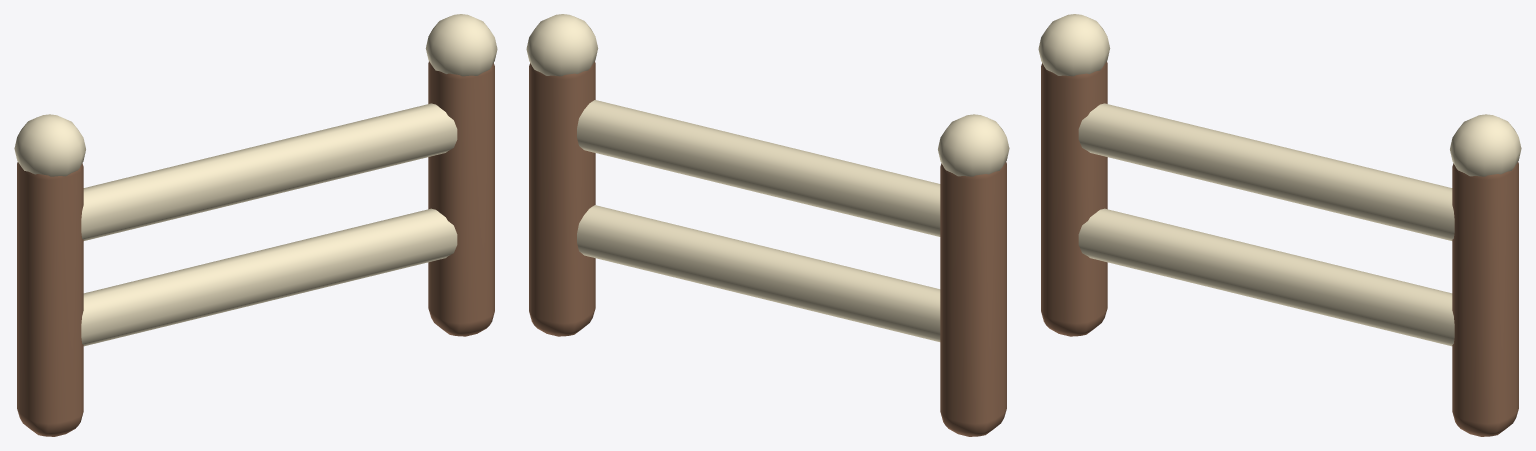
The model's file is fence.glb.
The picture shows the model from 3 angles, left to right: view 1: azimuth 30°, elevation 25°; view 2: azimuth 150°, elevation 25°; view 3: azimuth 330°, elevation 25°; orthographic projection.
Visible parts, largest first — view 1: fence; view 2: fence; view 3: fence.
Part boxes in pixels (x1,y1,x2,y2): fence: [14, 14, 497, 436]; fence: [526, 14, 1009, 436]; fence: [1038, 14, 1521, 436].
Bounding box in the file's own units: 1.03 × 0.655 × 0.142.
